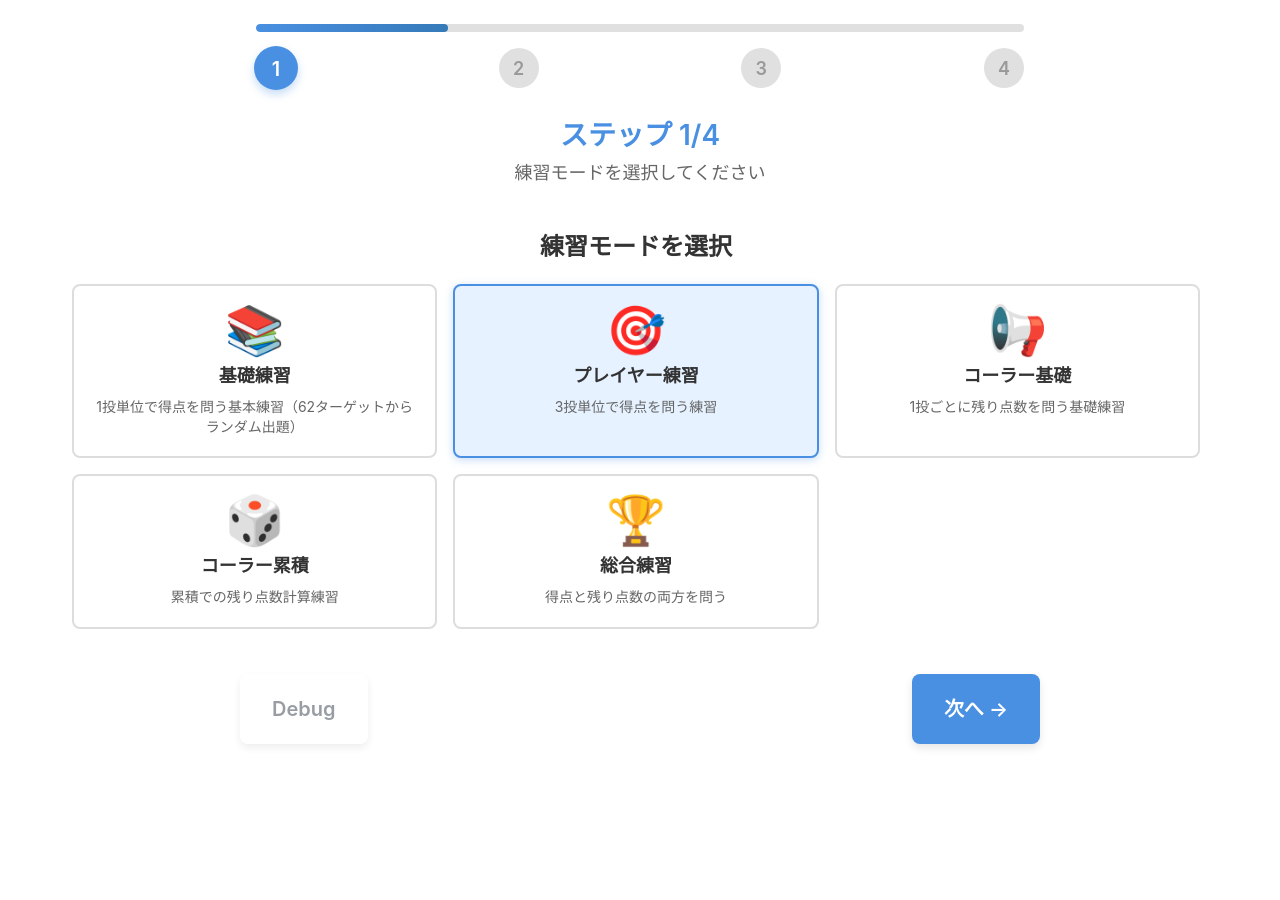
Test: SettingsPanel › 戻るボタンの動作 › ステップ2で「戻る」ボタンが表示される
Click the button with aria-label "次のステップへ進む" at (976, 709), box x1=912 y1=674 x2=1040 y2=744
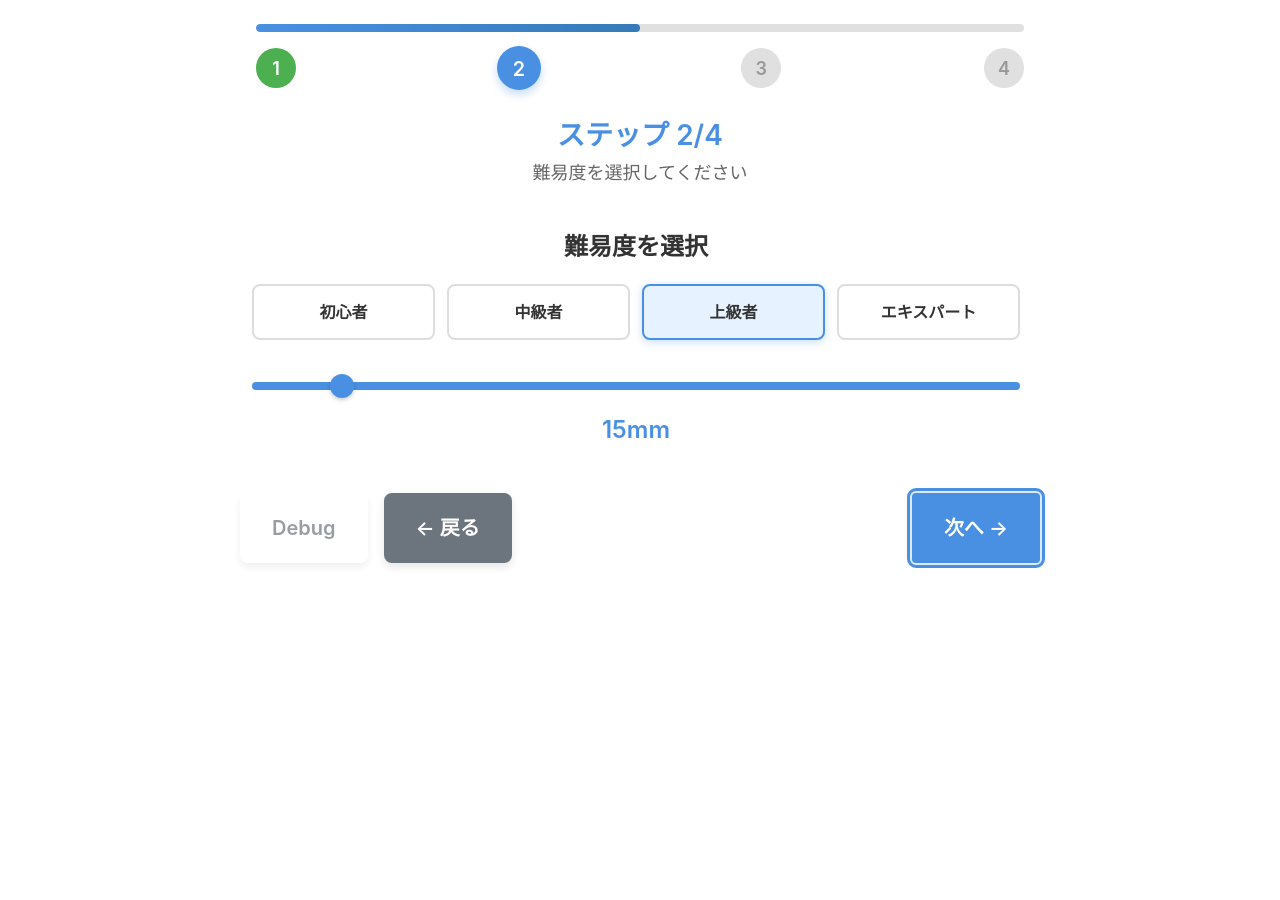
Now the button with aria-label "前のステップに戻る" is shown, box x1=384 y1=493 x2=512 y2=563
